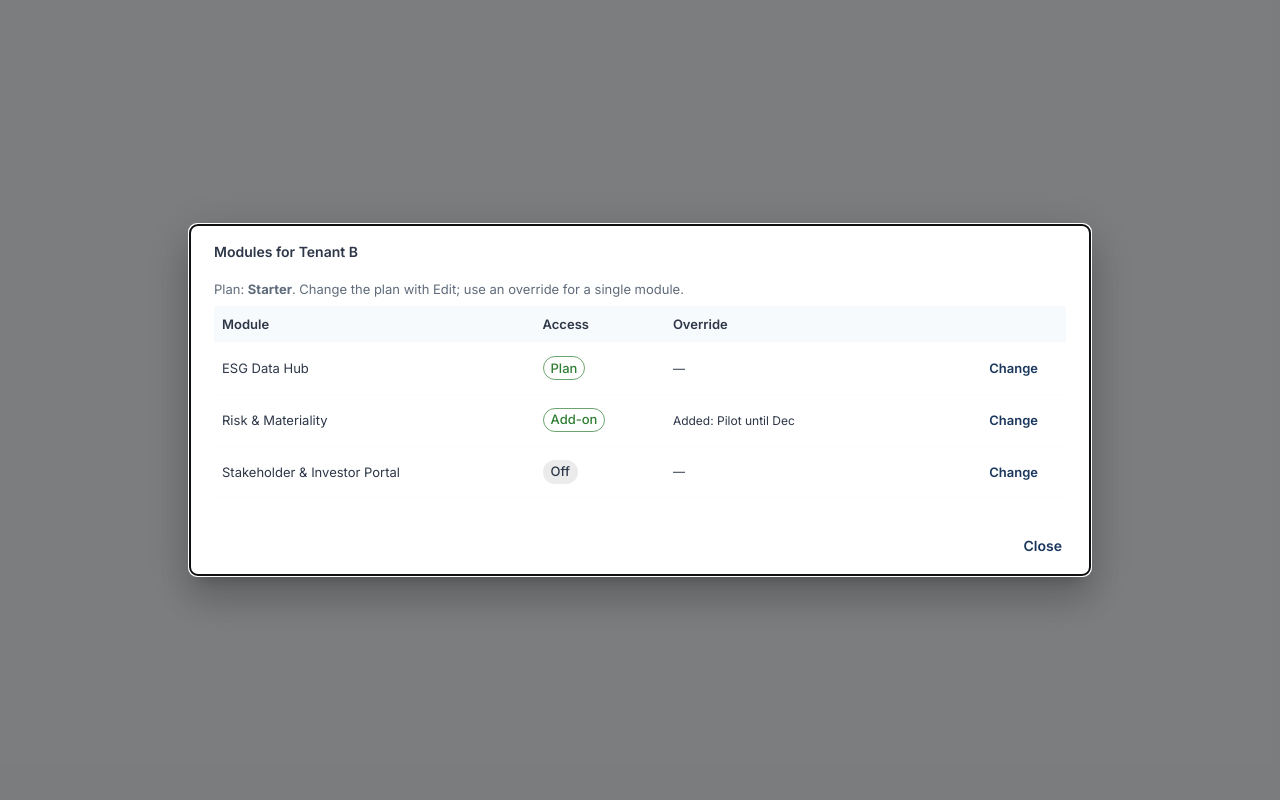
TenantModulesDialog (platform) › "Follow the plan" clears the override (enabled: null) and server field errors land on the field
Click the button with aria-label "Change Risk & Materiality" at (1014, 420), box [969,401,1058,440]
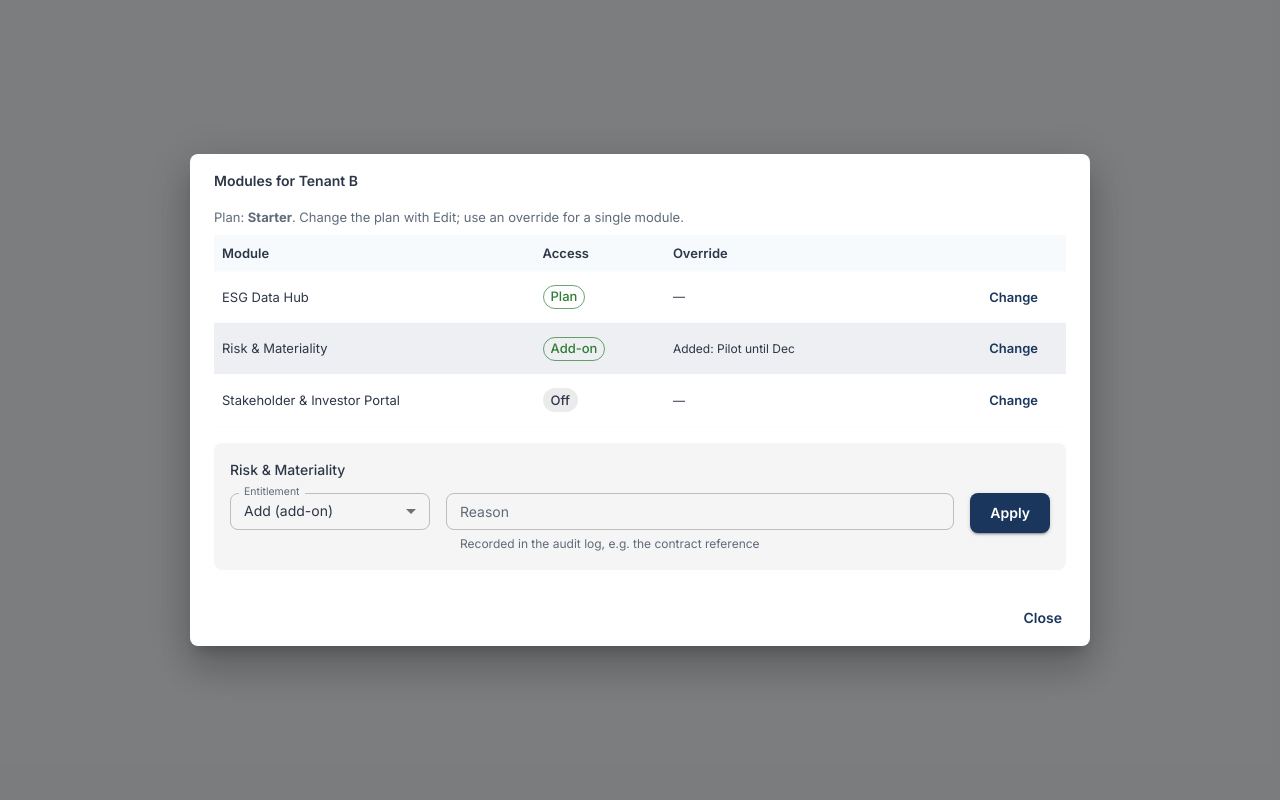
Result: the dropdown named "Entitlement" reads "Add (add-on)"
Click the dropdown named "Entitlement" at (289, 511), box [244,502,333,519]
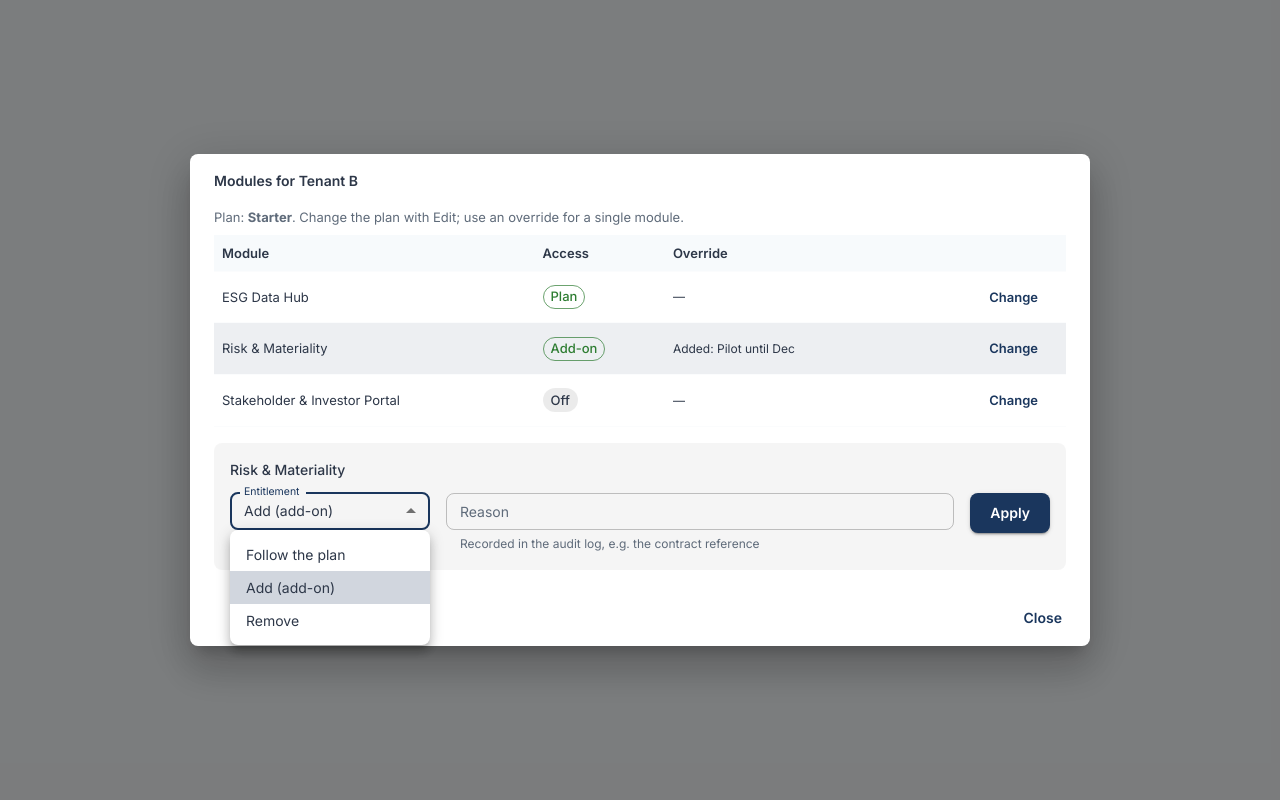
Click the option "Follow the plan" at (296, 554), box [246,546,346,563]
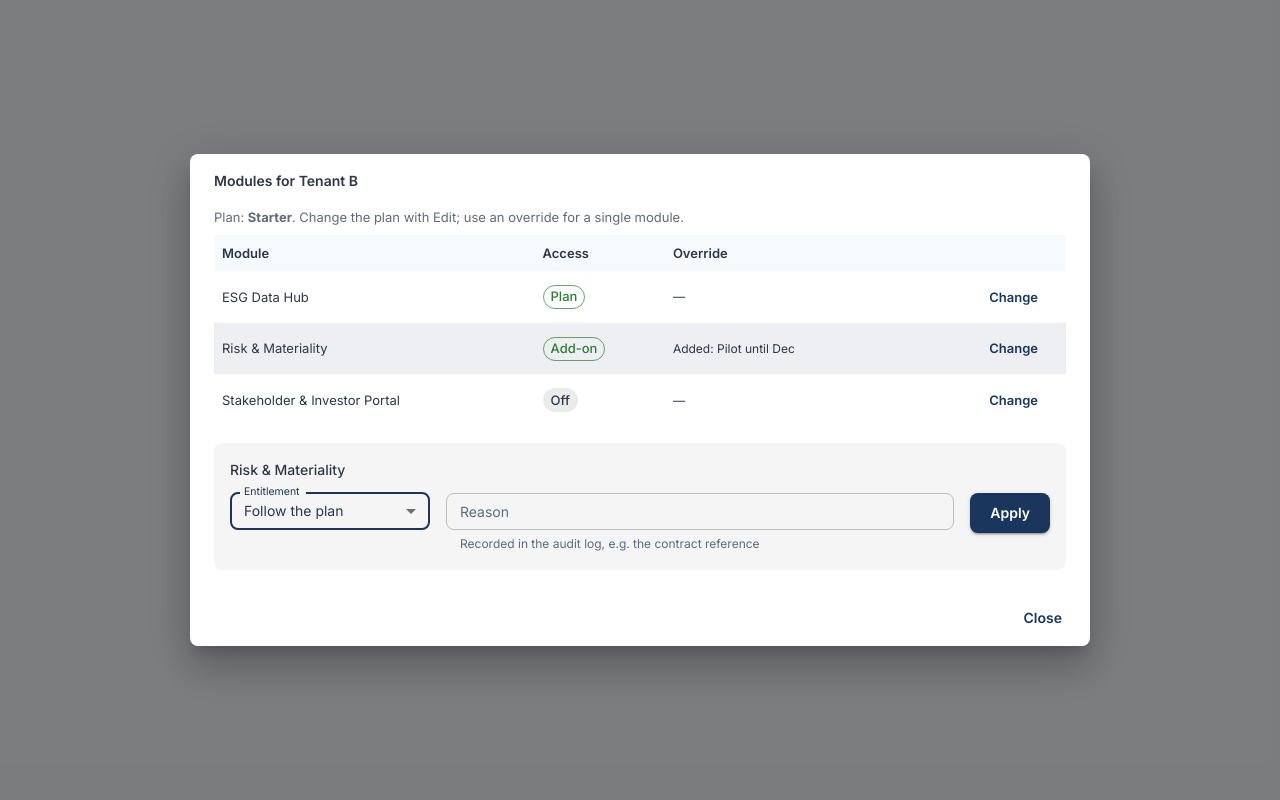
Type "Pilot ended" into the field labelled "Reason" at (700, 511), box [446,493,954,530]
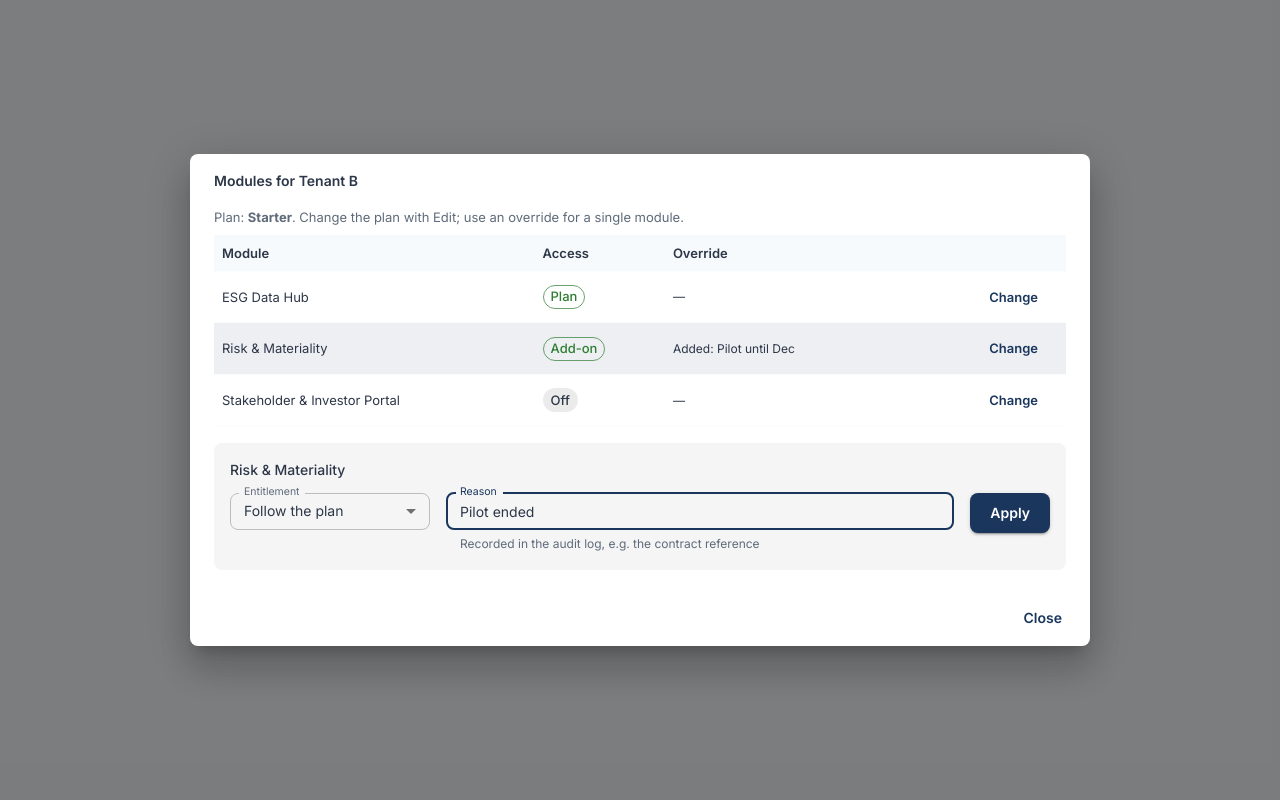
Click the button "Apply" at (1010, 513), box [970,493,1050,533]
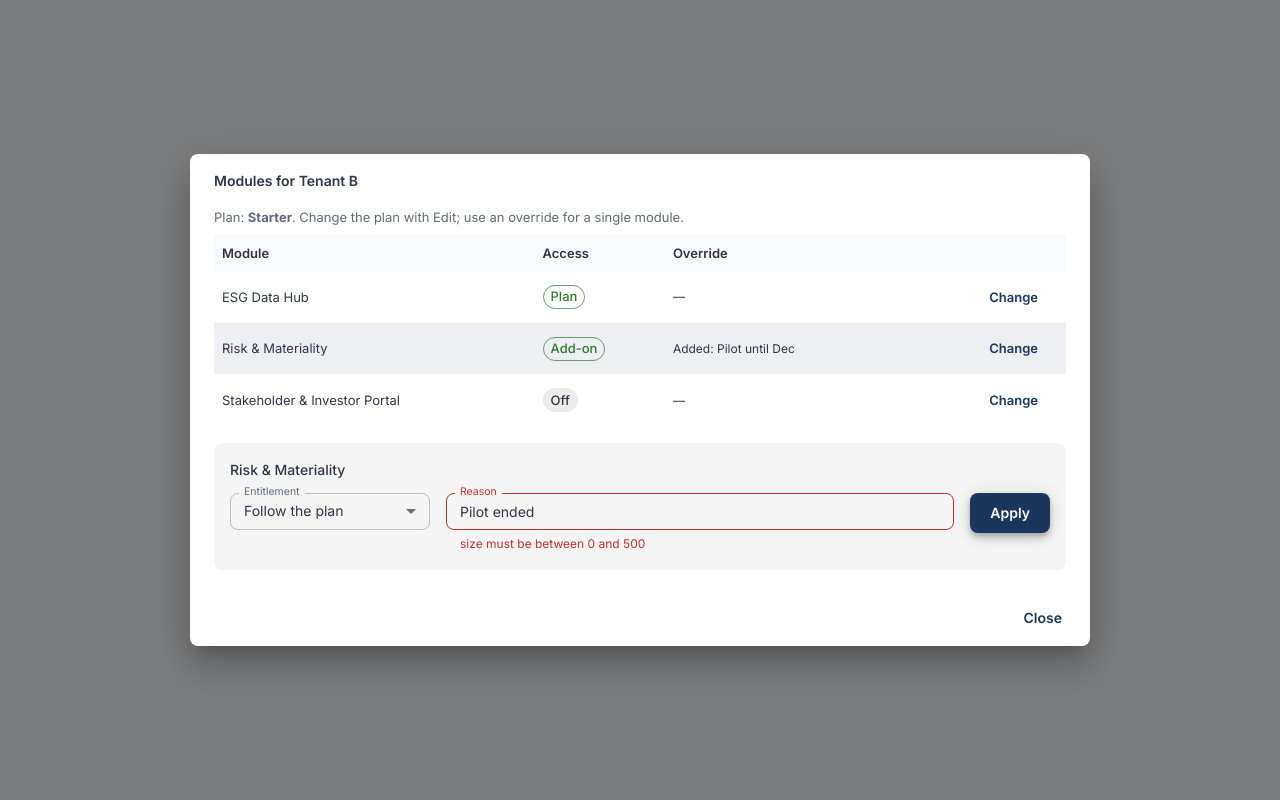
Result: the text "size must be between 0 and 500" is shown at [460,536,645,551]
